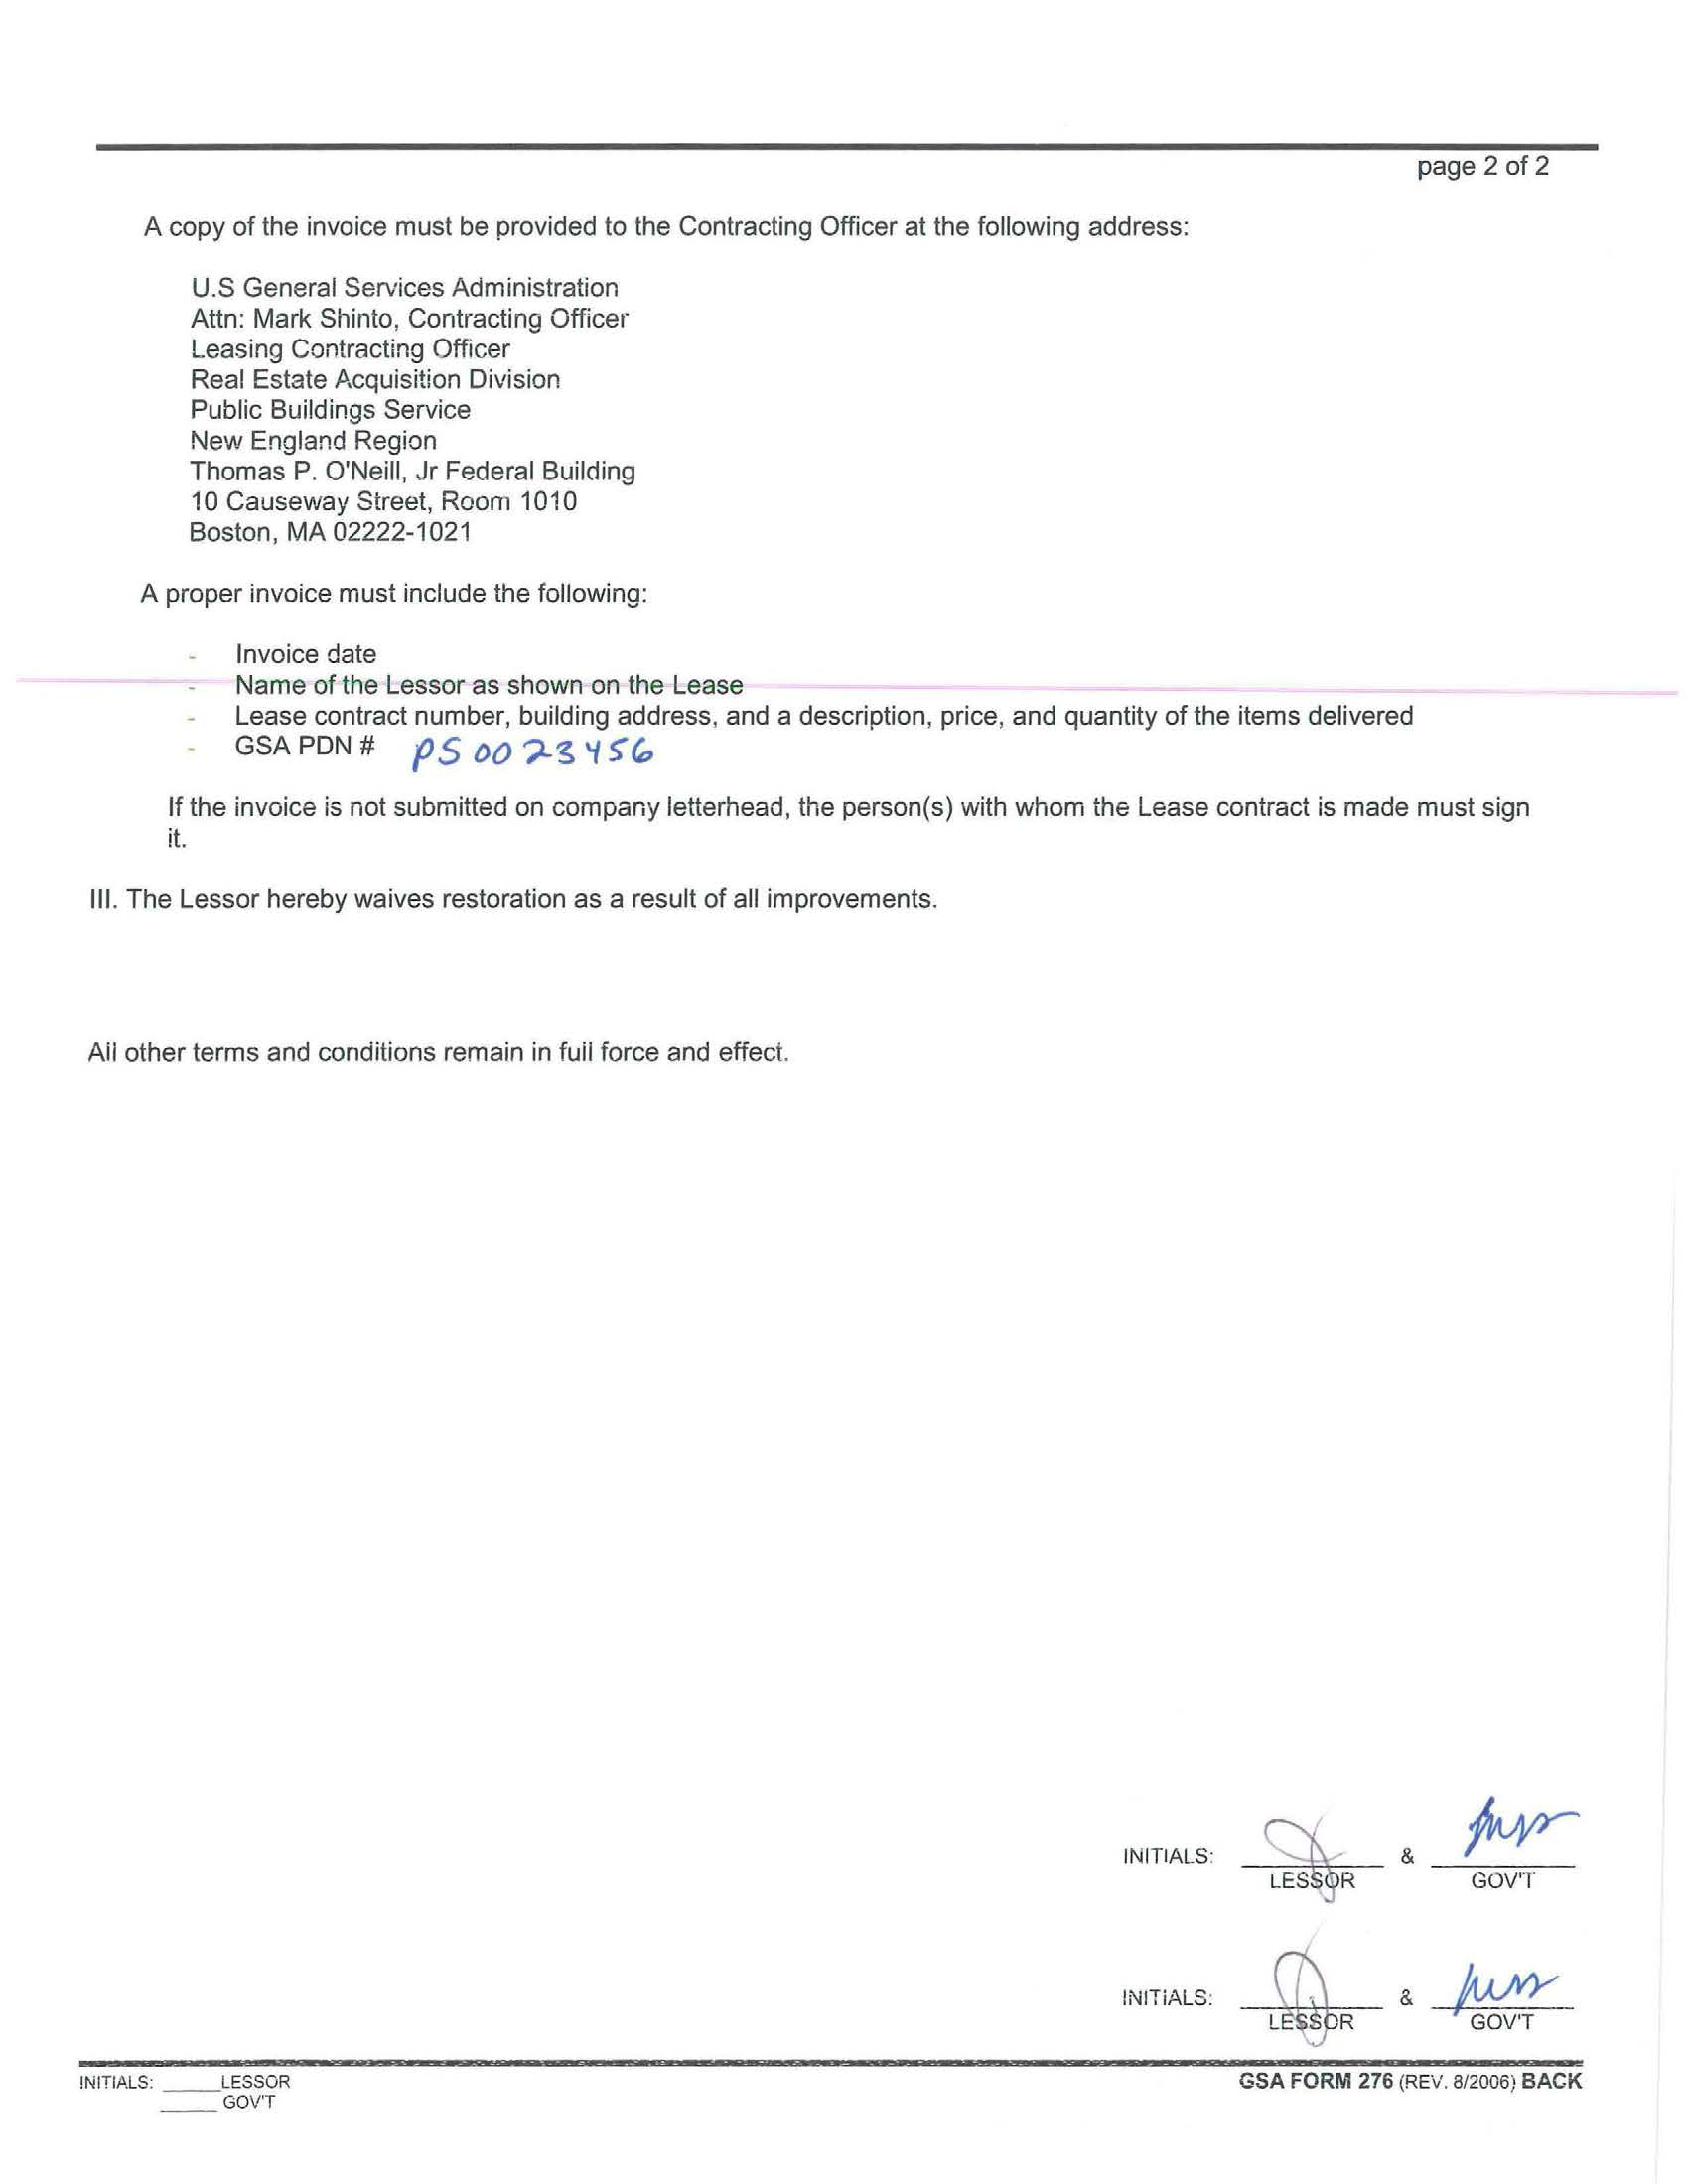handwritten: (406, 729, 688, 787), (1243, 1932, 1362, 2049), (1248, 1799, 1351, 1915), (1452, 1783, 1585, 1860), (1445, 1939, 1567, 2021)
